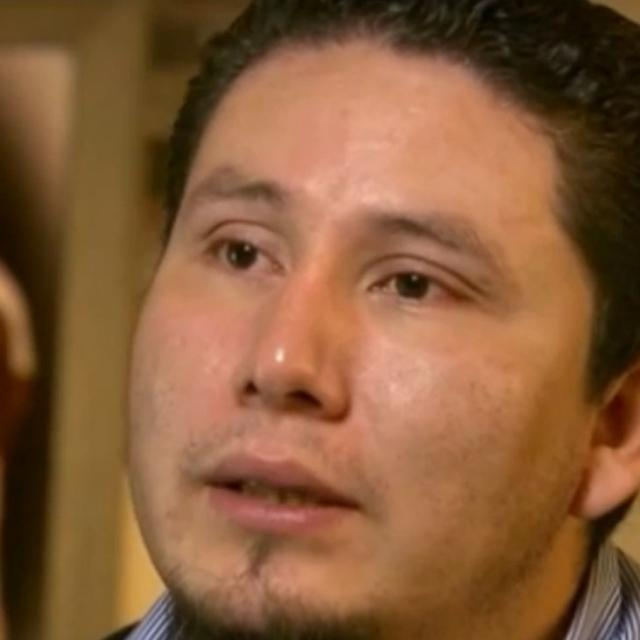Depress: (130, 46, 594, 639)
